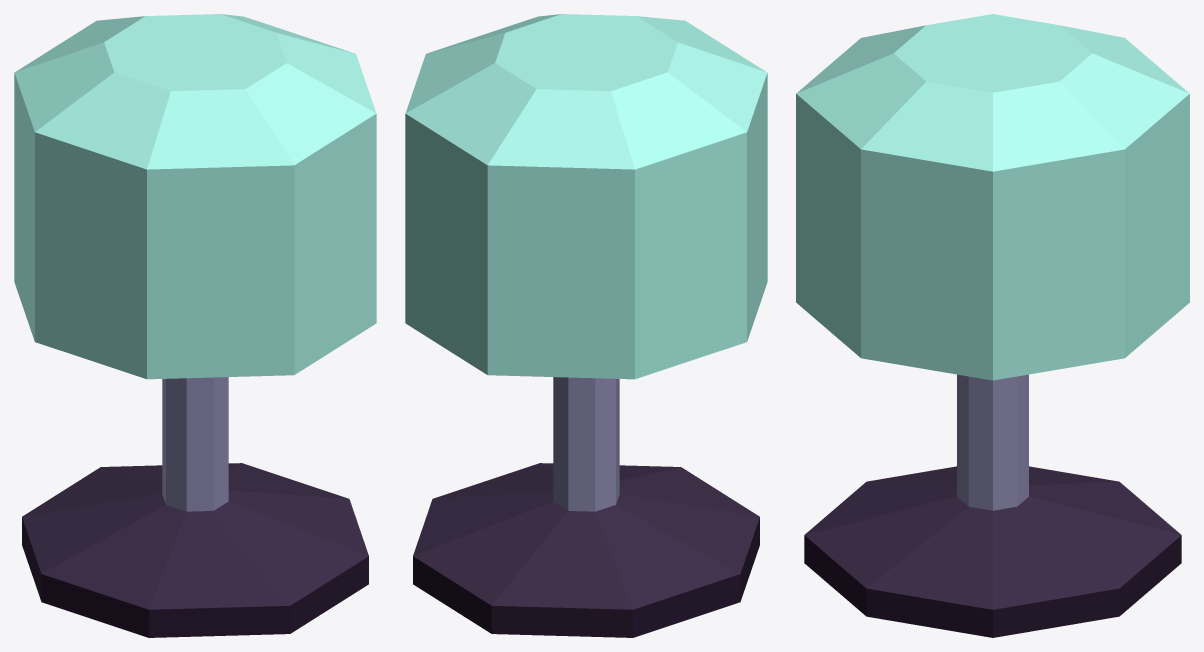
The model's file is Luminaria1.fbx.
3 views of the same model, side by side, from view 1: azimuth 30°, elevation 25°; view 2: azimuth 150°, elevation 25°; view 3: azimuth 270°, elevation 25° (orthographic).
Visible parts, largest first — view 1: Luminaria; view 2: Luminaria; view 3: Luminaria.
Boxes of the visible parts, <box> form: Luminaria: <box>14,14,376,637</box>; Luminaria: <box>405,14,767,637</box>; Luminaria: <box>796,14,1189,637</box>.
Size of the model in its own units: 0.2338 by 0.3561 by 0.2492.
